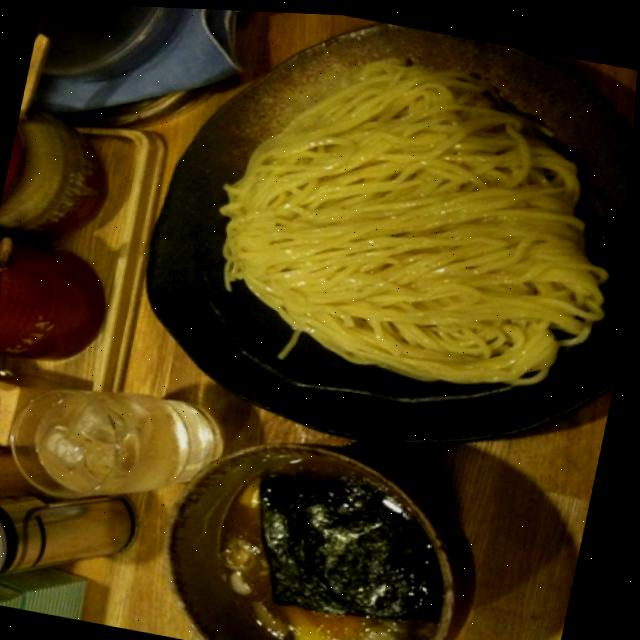汤锅炖物: (138, 423, 488, 640)
面条主食: (126, 5, 640, 483)
